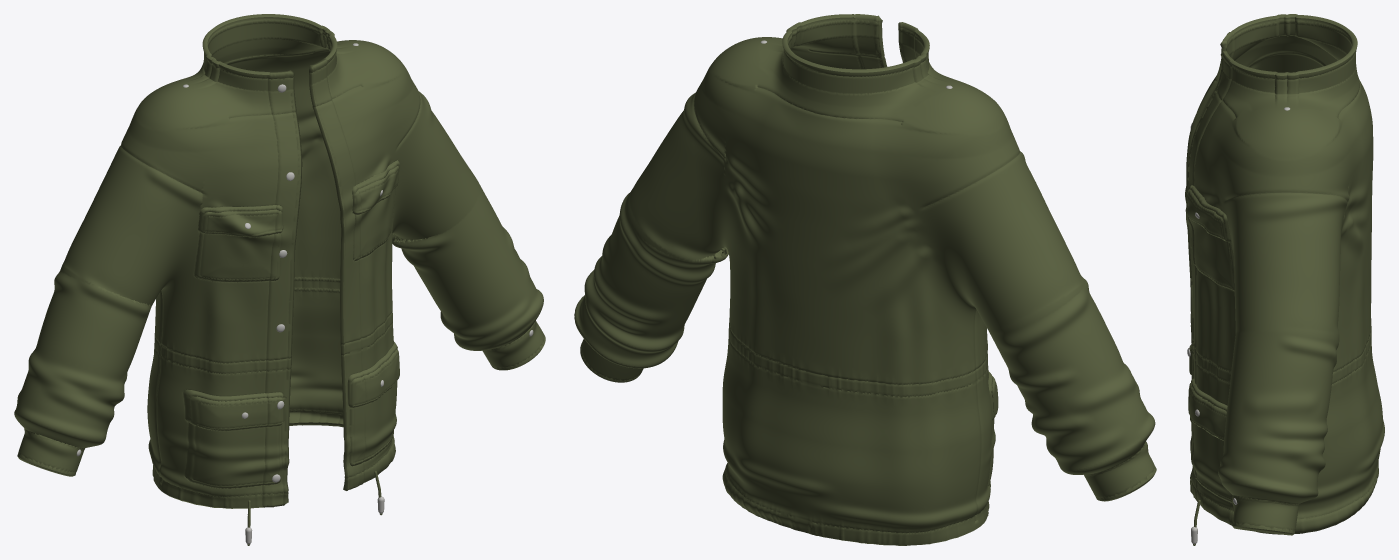
Rendered from 11_chaqueta_utility_abierta.glb.
The picture shows the model from 3 angles, left to right: view 1: azimuth 30°, elevation 25°; view 2: azimuth 150°, elevation 25°; view 3: azimuth 270°, elevation 25°; orthographic projection. The views are drawn at different scales.
Parts seen in each view (by area): view 1: body, hardware; view 2: body; view 3: body, hardware.
Part boxes in pixels (<box>): body: <box>14,14,545,508</box>; hardware: <box>76,43,533,544</box>; body: <box>574,14,1156,545</box>; body: <box>1185,14,1384,535</box>; hardware: <box>1187,107,1290,544</box>.
Bounding box in the file's own units: 1.01 × 0.848 × 0.3259.
